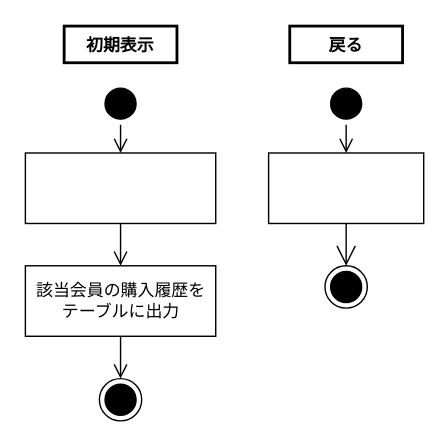
The diagram is 448 pixels wide and 446 high, and some of its shapes have lost their labels. Each missing label, with the centre of its shape:
商品検索画面へ 遷移: (345,187)
購入履歴,csvから 購入履歴情報を取得: (120,187)
